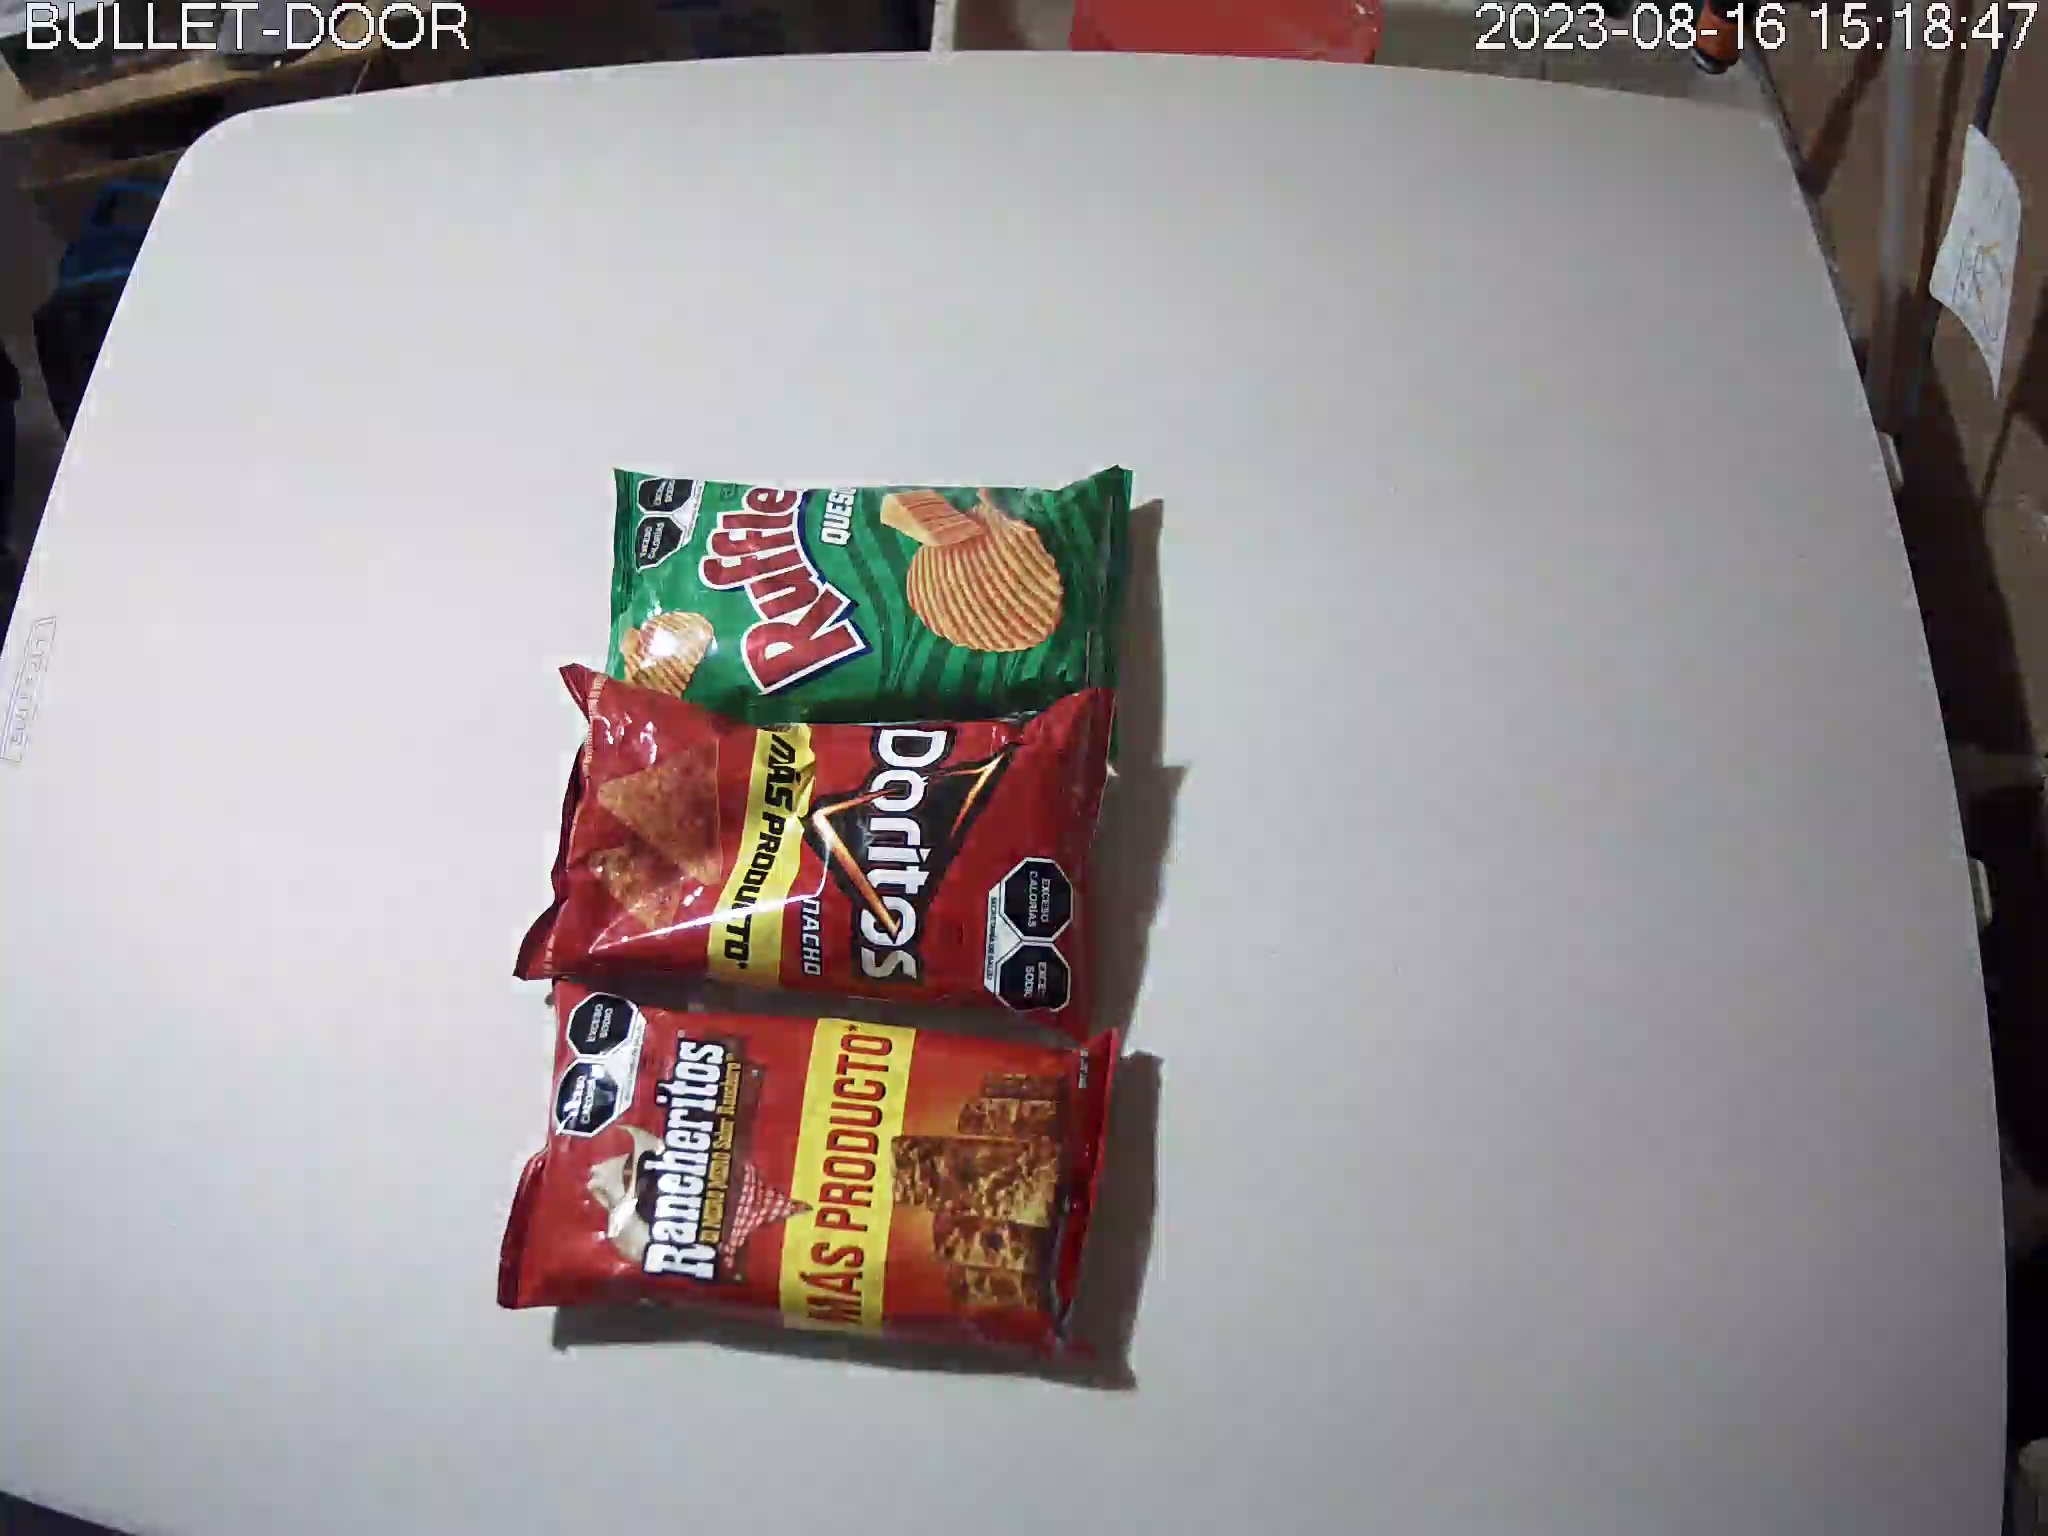DoritosN_61_F: (513, 663, 1121, 1054)
Rancheritos_58_F: (497, 971, 1122, 1363)
RufflesQ_48_F: (601, 465, 1135, 766)
